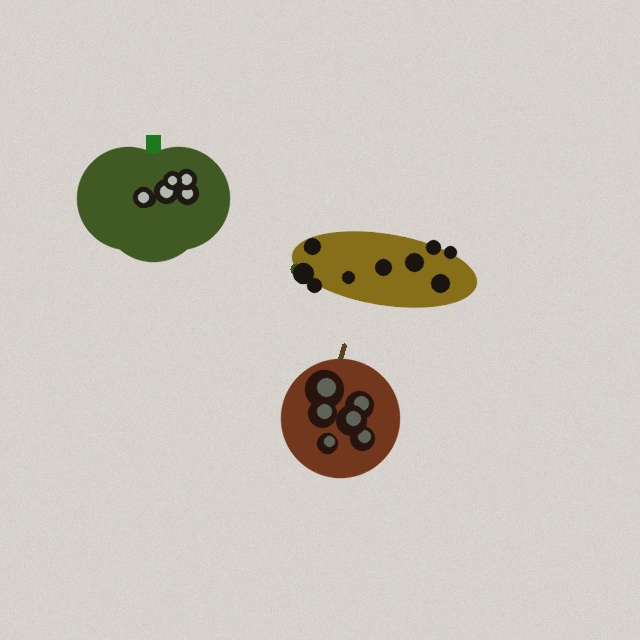Rotten apple: (281, 345, 399, 477)
Rotten banana: (287, 226, 481, 312)
Rotten bell pepper: (77, 135, 229, 261)
